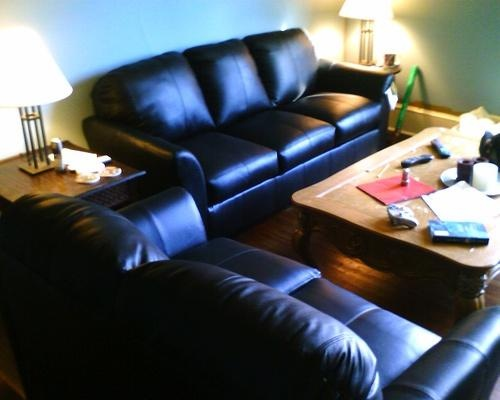sofa: (6, 181, 500, 400), (80, 27, 401, 237)
